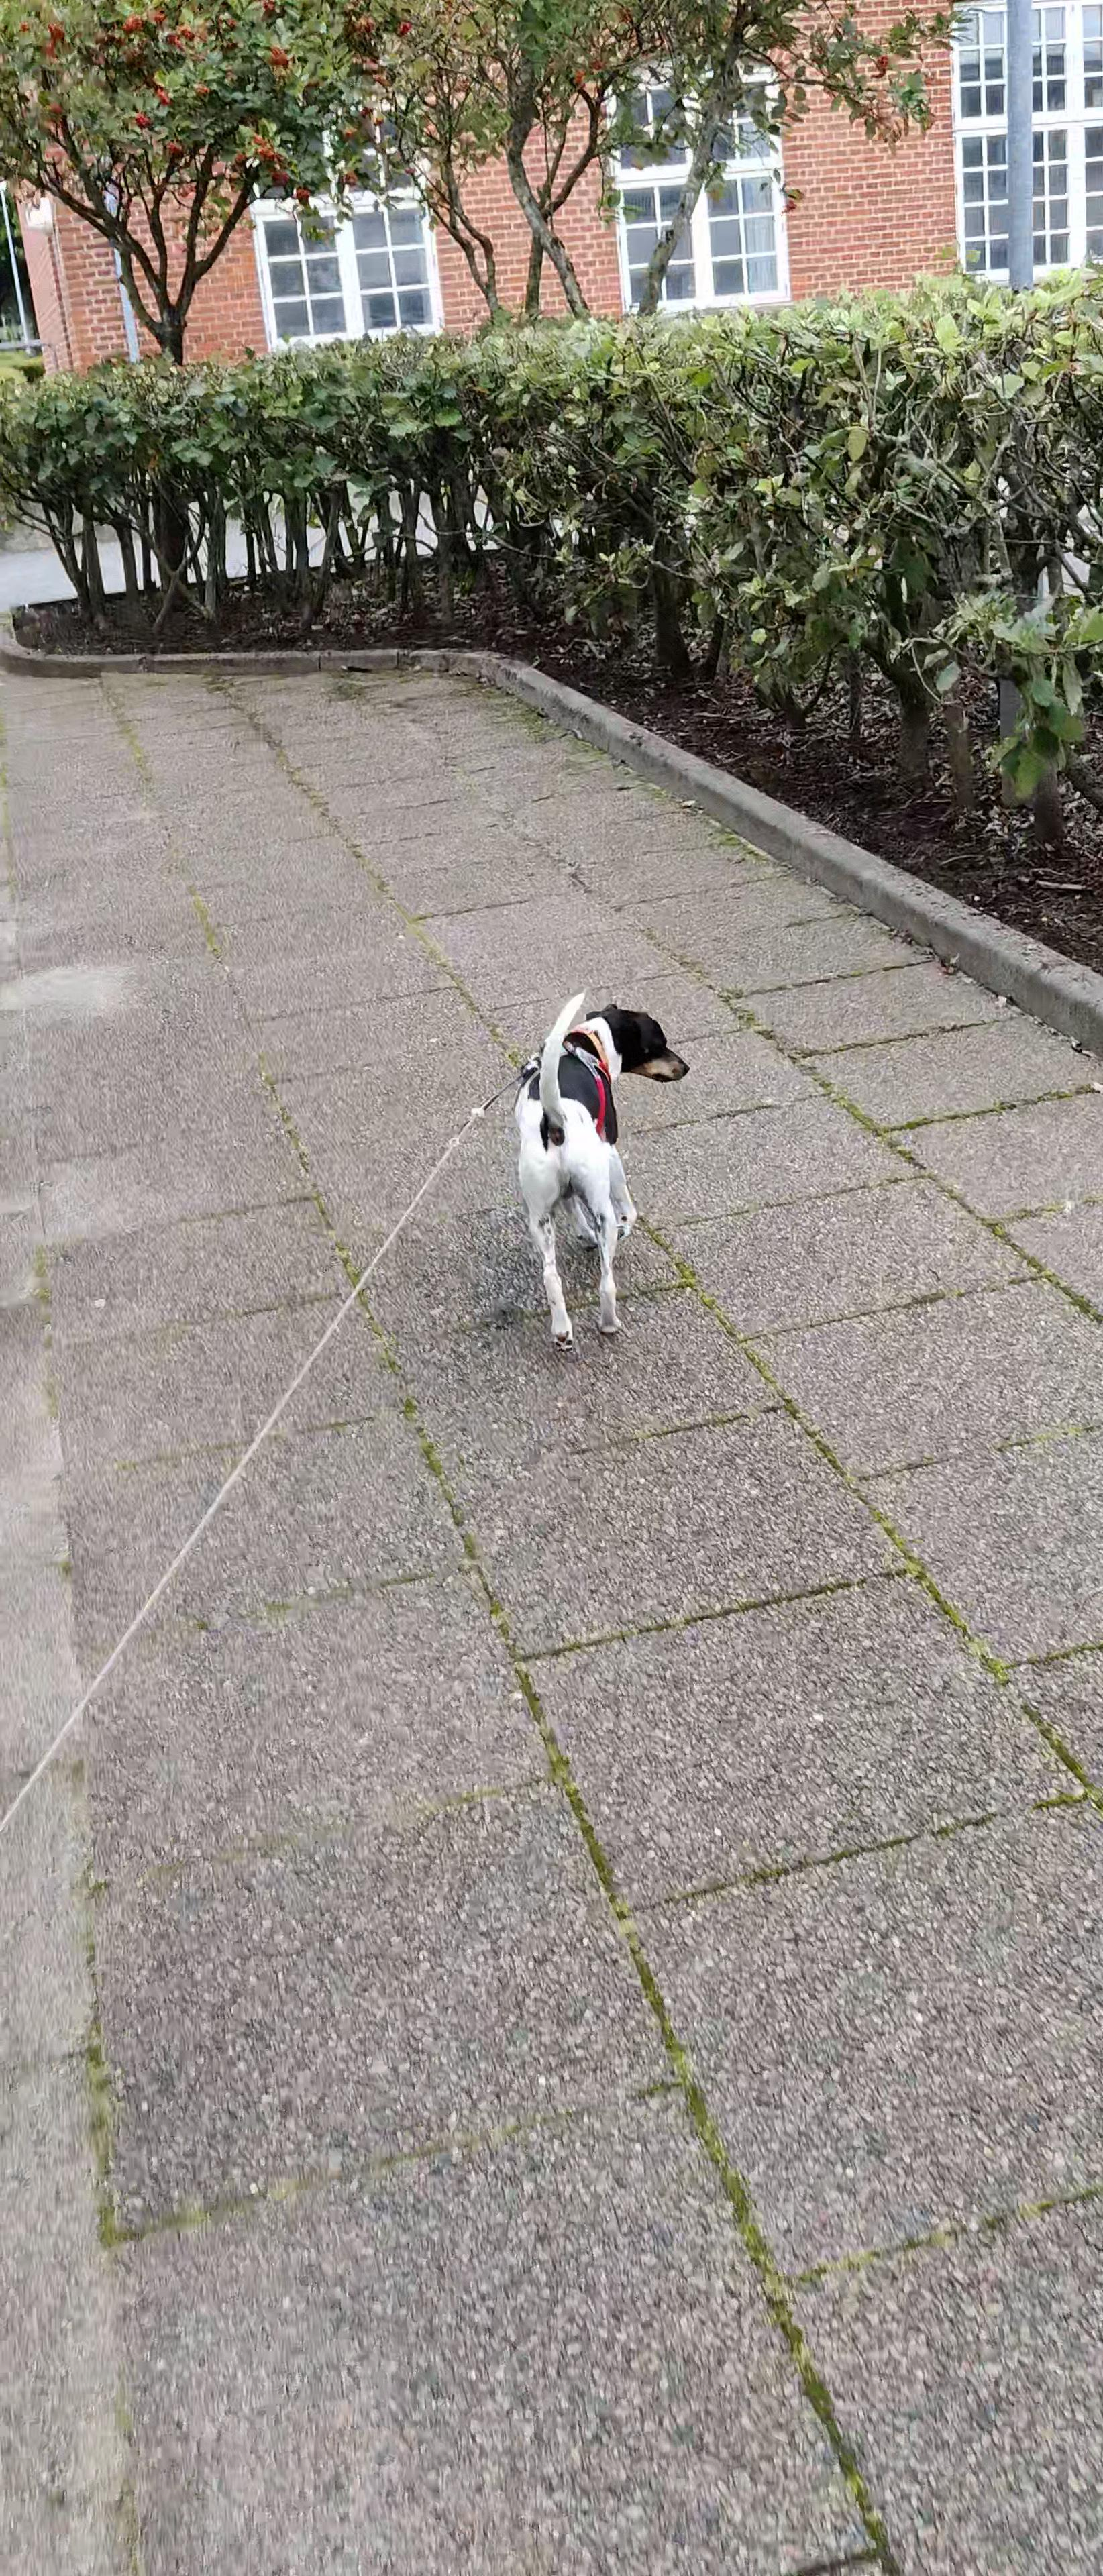Dog: (496, 981, 700, 1355)
